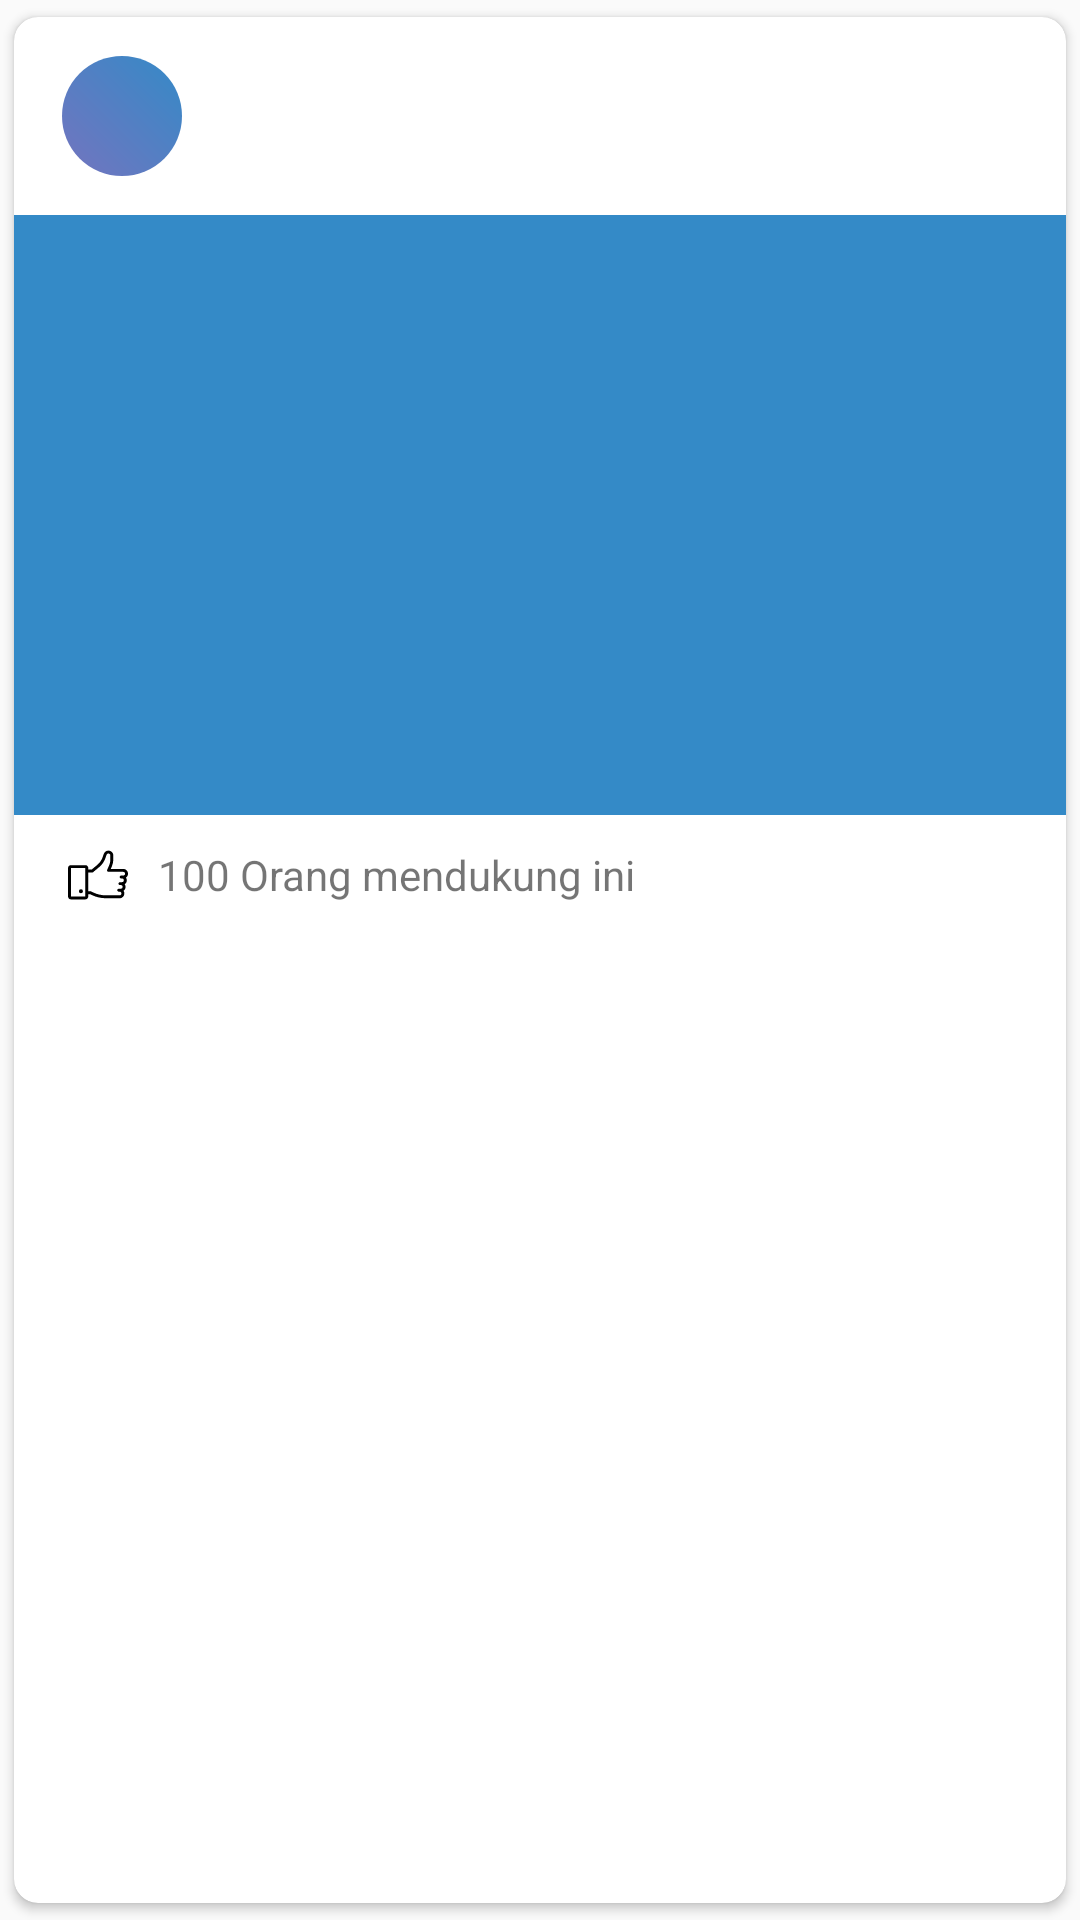

Icons on this 1080px x 1920px Android screen, each with the point to tap as (x,y):
like: (98,875)
